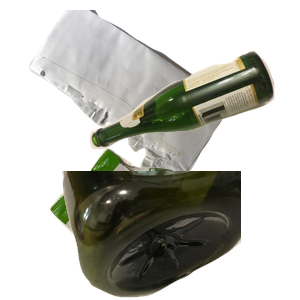glass: (87, 48, 300, 190)
paper: (27, 10, 252, 187)
plastic: (60, 171, 300, 300)
trash: (47, 146, 220, 300)
